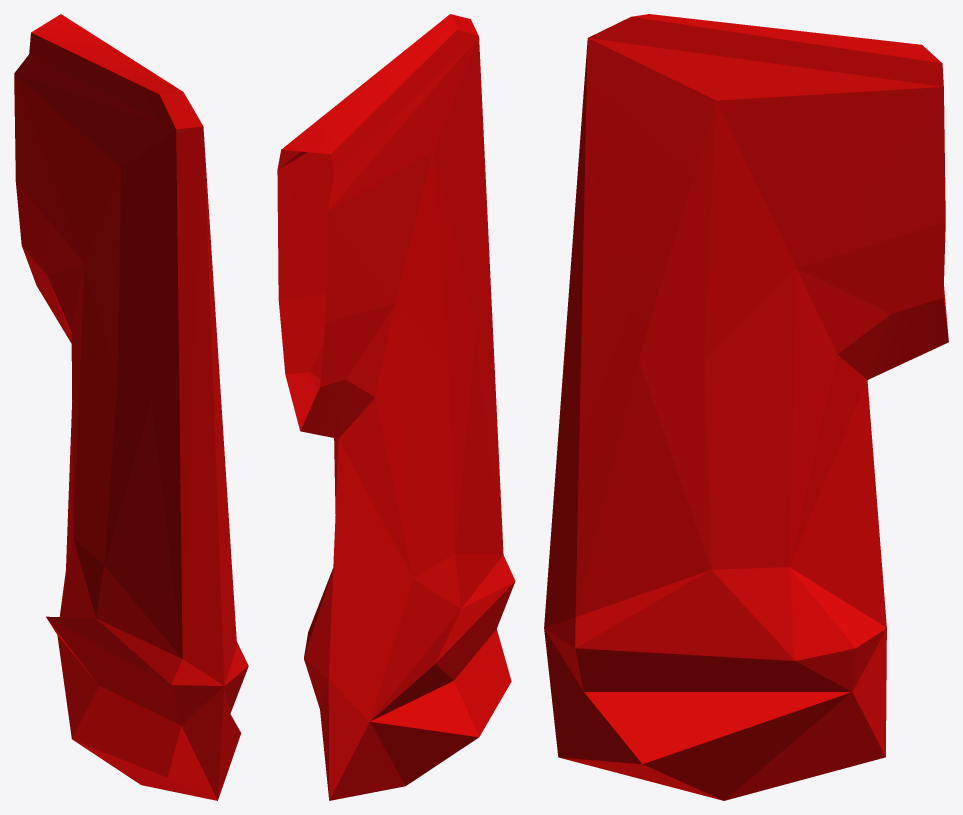
The model's file is Pants_First_Half.fbx.
The picture shows the model from 3 angles, left to right: view 1: azimuth 30°, elevation 25°; view 2: azimuth 150°, elevation 25°; view 3: azimuth 270°, elevation 25°; orthographic projection. The views are drawn at different scales.
Parts seen in each view (by area): view 1: Broekje; view 2: Broekje; view 3: Broekje.
Boxes of the visible parts, bbox=[...] form: Broekje: bbox=[14, 14, 248, 800]; Broekje: bbox=[277, 14, 515, 800]; Broekje: bbox=[544, 14, 948, 800].
Size of the model in its own units: 10.66 by 55.47 by 25.96.
